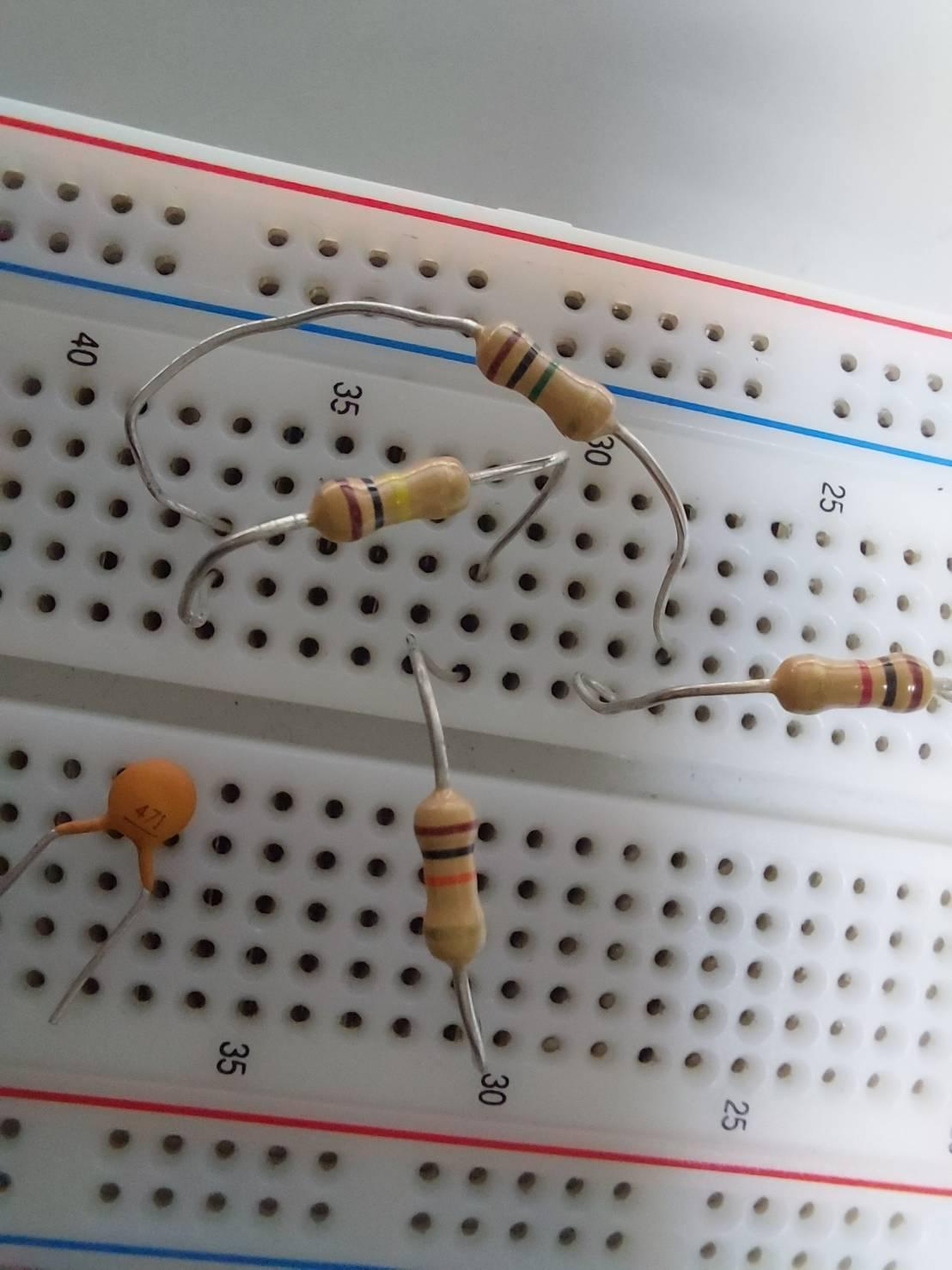resistor: (473, 303, 621, 446), (304, 443, 480, 548), (405, 781, 498, 970), (767, 639, 938, 727)
